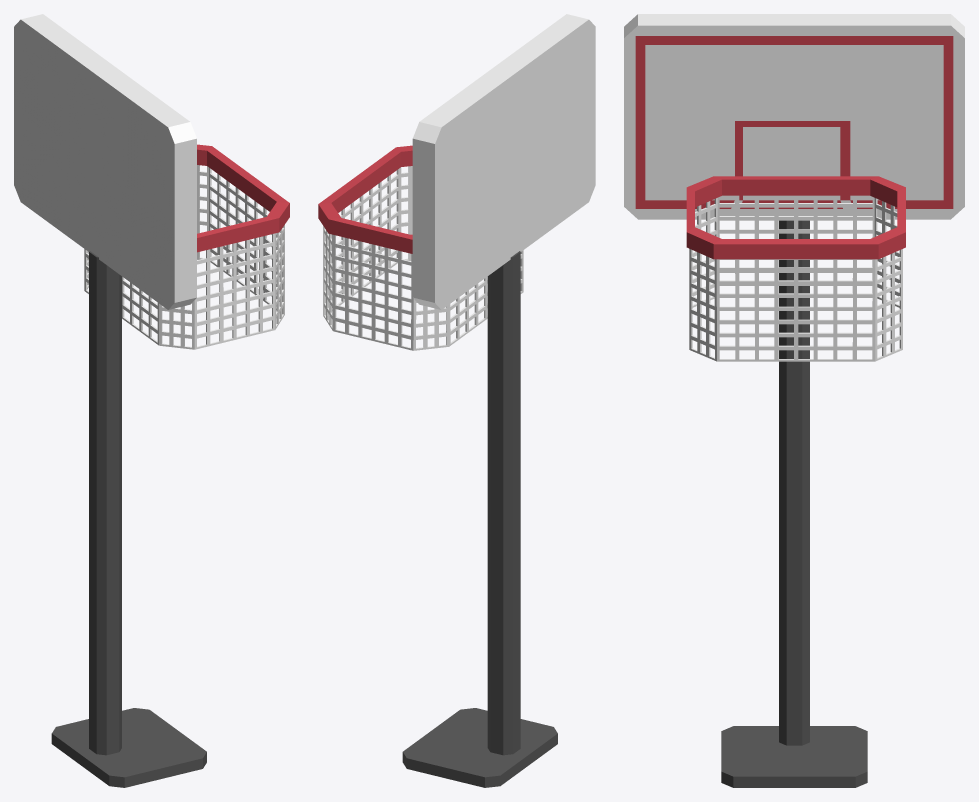
The model's file is BasketballHoop.fbx.
The picture shows the model from 3 angles, left to right: view 1: azimuth 30°, elevation 25°; view 2: azimuth 150°, elevation 25°; view 3: azimuth 270°, elevation 25°; orthographic projection. The views are drawn at different scales.
Parts seen in each view (by area): view 1: BasketballHoop; view 2: BasketballHoop; view 3: BasketballHoop.
Boxes of the visible parts, x1,y1,x2,y2 form: BasketballHoop: (14, 14, 289, 787); BasketballHoop: (318, 14, 595, 787); BasketballHoop: (624, 14, 964, 787).
Bounding box in the file's own units: 335 × 1287 × 544.
